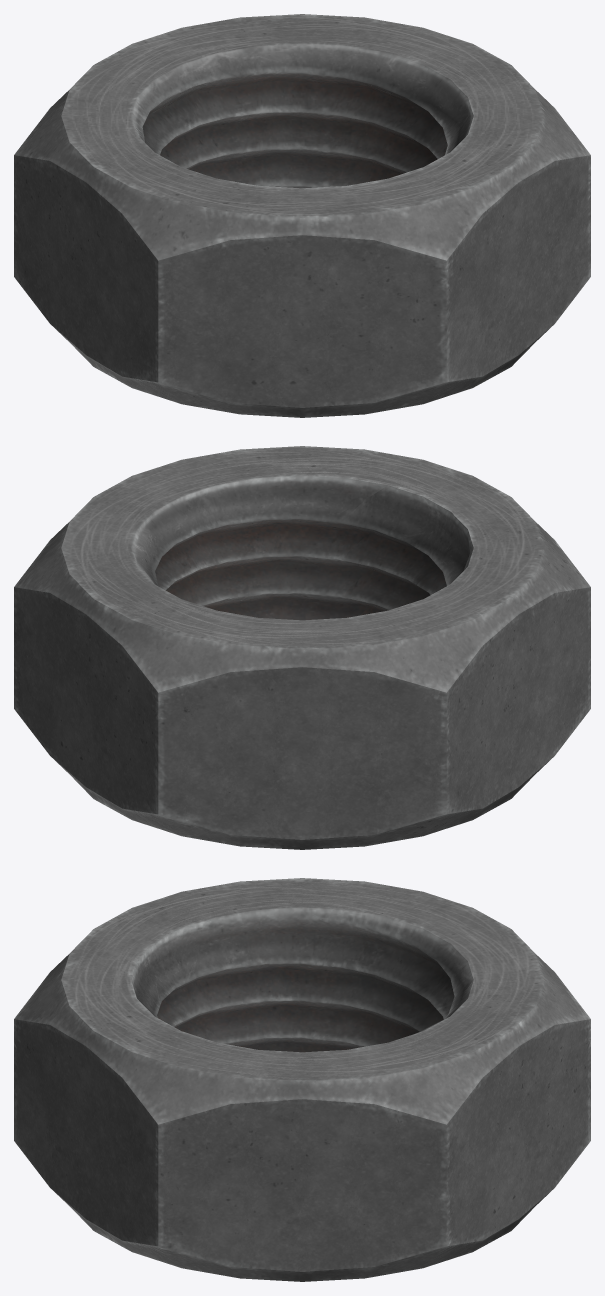
File: Nut_L.fbx
3 views of the same model, one above another, from view 1: azimuth 30°, elevation 25°; view 2: azimuth 150°, elevation 25°; view 3: azimuth 270°, elevation 25° (orthographic).
Visible parts, largest first — view 1: Nut_L; view 2: Nut_L; view 3: Nut_L.
Boxes of the visible parts, x1=… form: Nut_L: x1=14, y1=14, x2=590, y2=417; Nut_L: x1=14, y1=446, x2=590, y2=849; Nut_L: x1=14, y1=878, x2=590, y2=1281.
Size of the model in its own units: 173 by 76.52 by 200.
